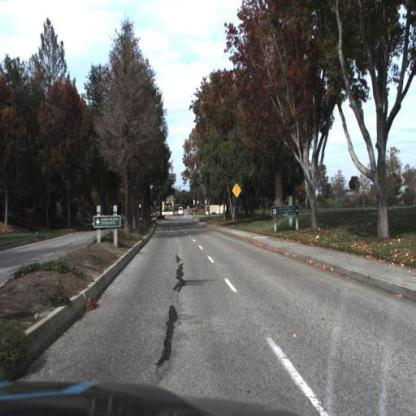car: (180, 208, 185, 216)
